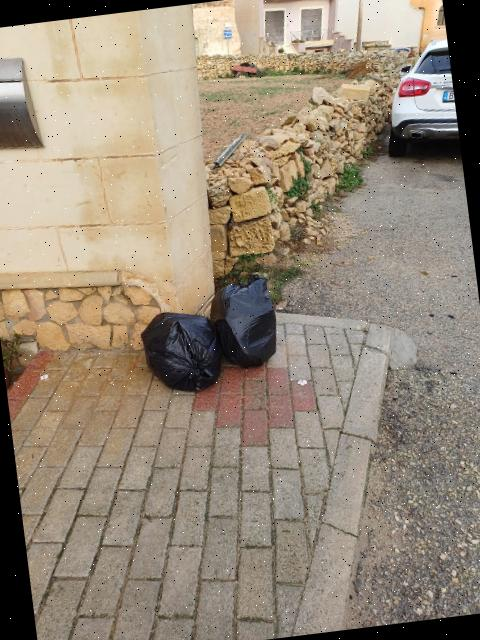Mixed -Black-: (141, 312, 222, 391), (211, 273, 276, 367)
